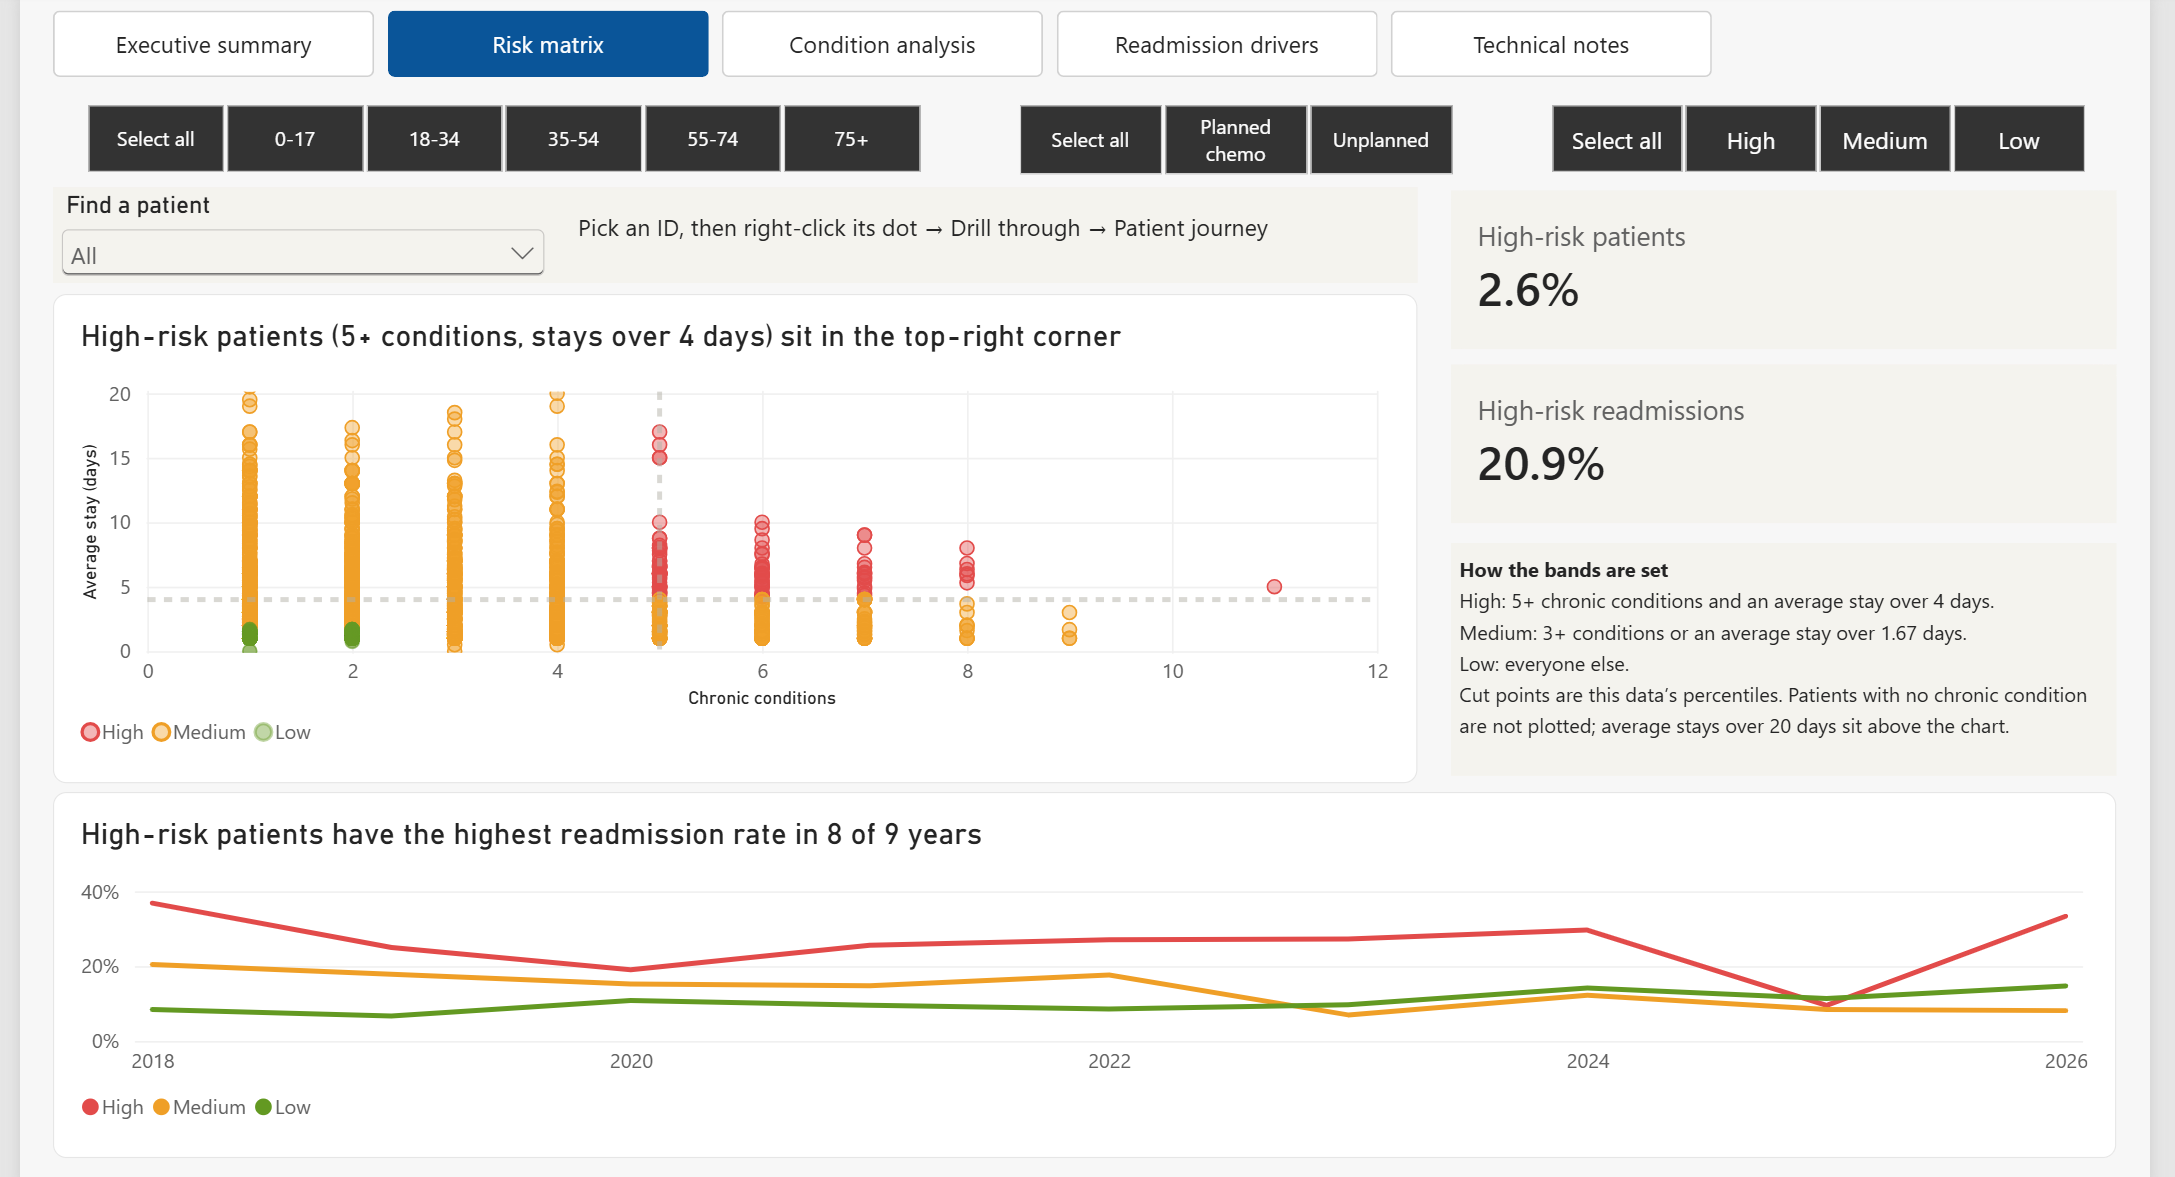

Layout of this report page (visuals, bound fields, positions):
{"tool":"powerbi","page":{"name":"Risk matrix","canvas":[1280,720],"ordinal":1},"visuals":[{"type":"shape","box":[20,116,820,57],"z":0},{"type":"slicer","fields":{"Values":["dim_patients.age_band"]},"box":[20,65,540,44],"z":1000},{"type":"slicer","fields":{"Values":["fact_encounters.Stay Type"]},"box":[580,65,300,44],"z":2000},{"type":"slicer","fields":{"Values":["dim_patients.Risk Band"]},"box":[900,65,360,44],"z":3000},{"type":"scatterChart","title":"High-risk patients (5+ conditions, stays over 4 days) sit in the top-right corner","fields":{"Category":["dim_patients.Id"],"Series":["dim_patients.Risk Band"],"X":["_Measures.Comorbidity Count"],"Y":["_Measures.Avg LOS Days"]},"box":[20,180,820,294],"z":4000},{"type":"cardVisual","title":"Readmission rate","fields":{"Data":["_Measures.High Risk Share of Patients"]},"box":[860,118,400,95],"z":5000},{"type":"cardVisual","title":"Readmission rate","fields":{"Data":["_Measures.High Risk Share of Readmissions"]},"box":[860,223,400,95],"z":6000},{"type":"lineChart","title":"High-risk patients have the highest readmission rate in 8 of 9 years","fields":{"Category":["dim_date.Year"],"Series":["dim_patients.Risk Band"],"Y":["_Measures.Readmission Rate"]},"box":[20,480,1240,220],"z":7000},{"type":"pageNavigator","box":[20,10,1000,40],"z":8000},{"type":"textbox","box":[860,330,400,140],"z":9000},{"type":"slicer","fields":{"Values":["dim_patients.Id"]},"box":[20,118,300,56],"z":10000},{"type":"textbox","box":[335,130,505,35],"z":11000}]}

Visuals, with their boxes on the page's 1280x720 design canvas (x1, y1, x2, y2). These are canvas units, not pixel positions in the 2175x1177 screenshot, which may show the page scaled, cropped or inside an application window:
shape: x1=20 y1=116 x2=840 y2=173
slicer - dim_patients.age_band: x1=20 y1=65 x2=560 y2=109
slicer - fact_encounters.Stay Type: x1=580 y1=65 x2=880 y2=109
slicer - dim_patients.Risk Band: x1=900 y1=65 x2=1260 y2=109
"High-risk patients (5+ conditions, stays over 4 days) sit in the top-right corner" scatterChart: x1=20 y1=180 x2=840 y2=474
"Readmission rate" cardVisual: x1=860 y1=118 x2=1260 y2=213
"Readmission rate" cardVisual: x1=860 y1=223 x2=1260 y2=318
"High-risk patients have the highest readmission rate in 8 of 9 years" lineChart: x1=20 y1=480 x2=1260 y2=700
pageNavigator: x1=20 y1=10 x2=1020 y2=50
textbox: x1=860 y1=330 x2=1260 y2=470
slicer - dim_patients.Id: x1=20 y1=118 x2=320 y2=174
textbox: x1=335 y1=130 x2=840 y2=165
